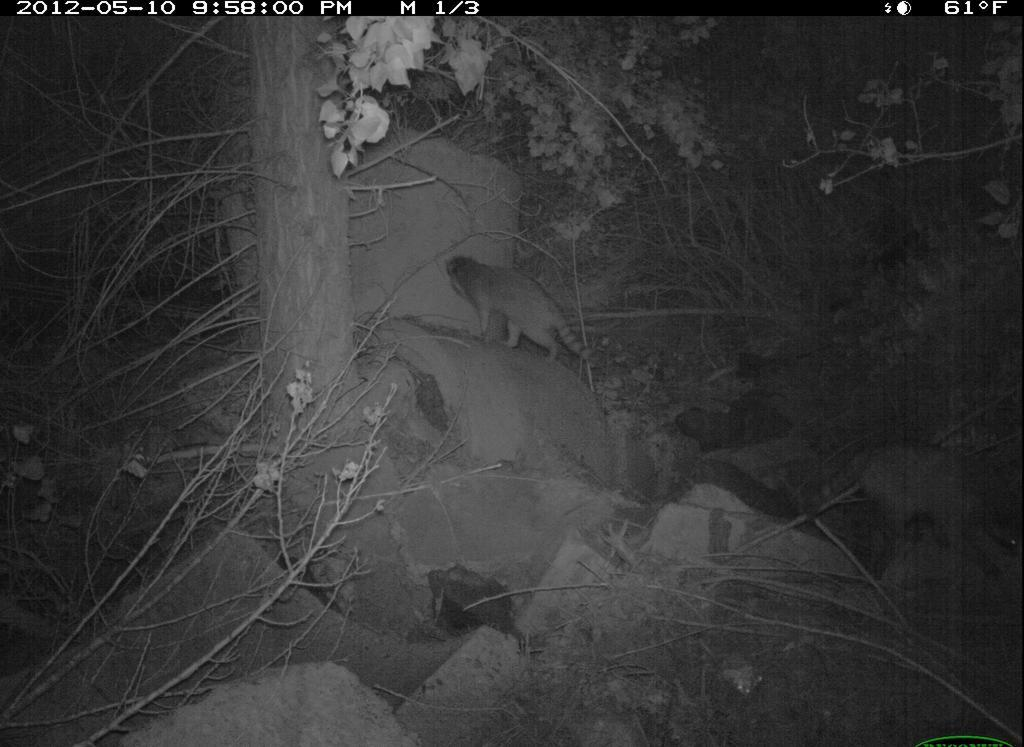raccoon: (440, 249, 619, 377)
